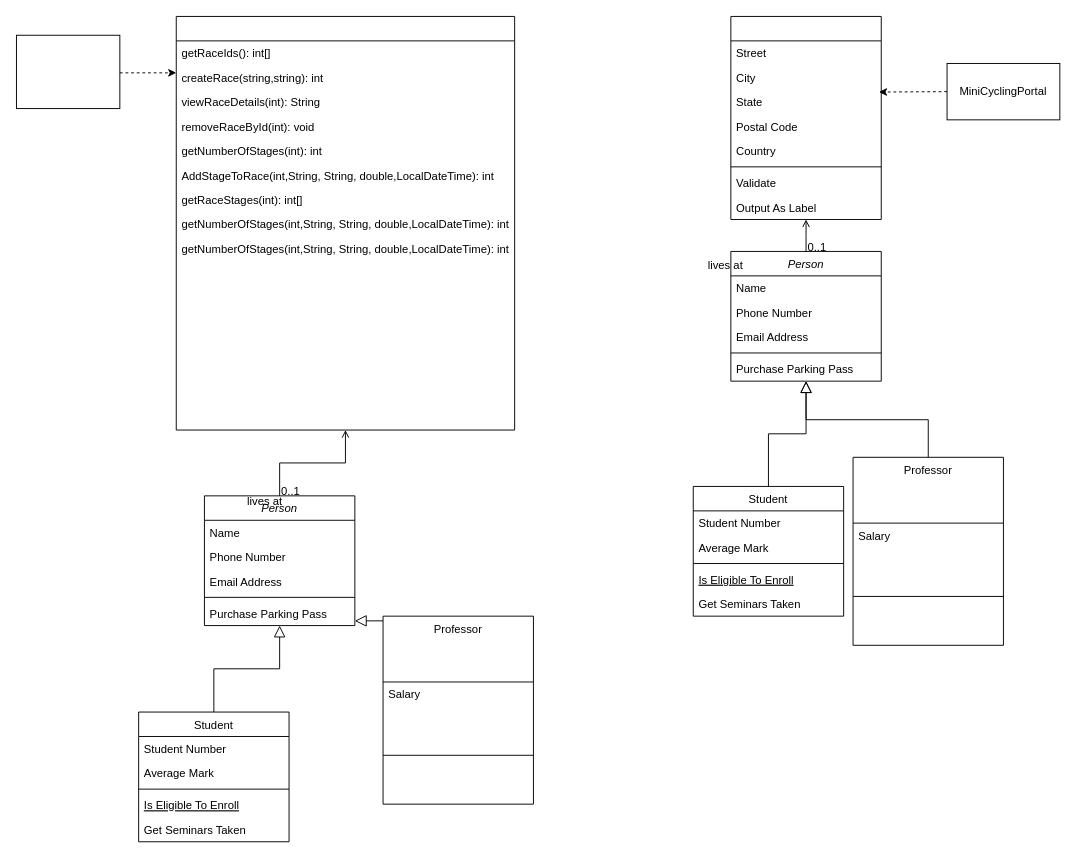
The diagram is 1076 pixels wide and 861 high, and some of its shapes have lost their labels. The shapes that lost their labels are listed below. From the top down, each one's box as (x1, y1, x2, y2) in pixels, then its label:
(16, 34, 120, 109): CyclingPortal
(730, 16, 881, 219): BadMiniCyclingPortallmpl
(175, 16, 515, 430): BadCyclingPortallmpl
